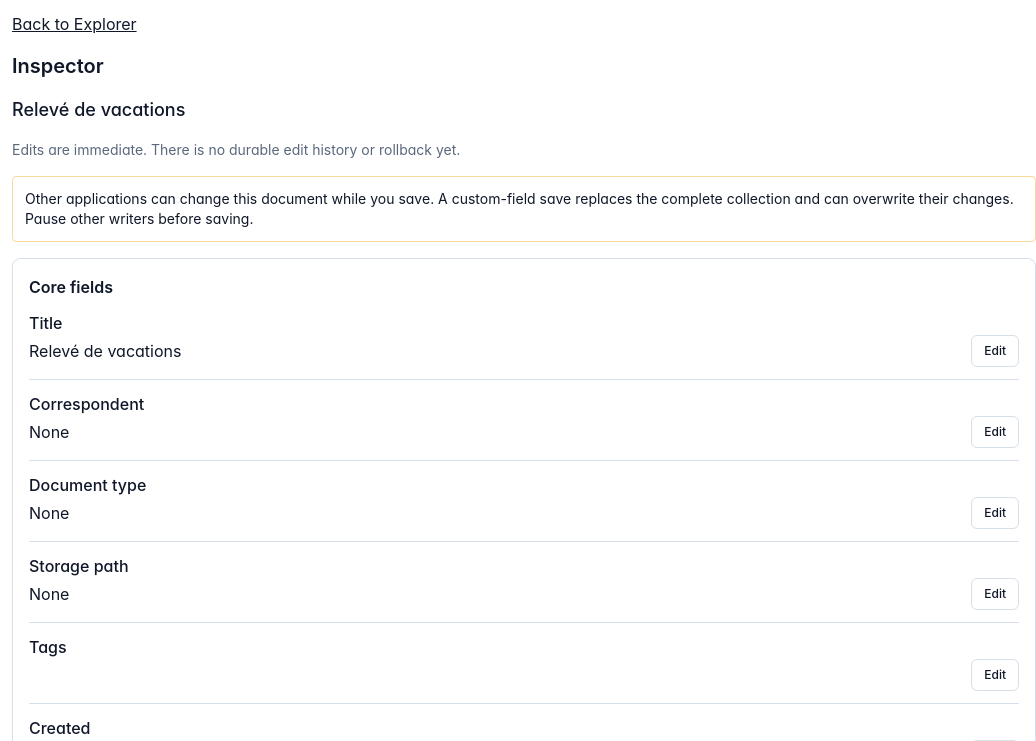
Test: Inspector › keeps an unset core reference null
Click the button with aria-label "Edit Correspondent": {"x": 995, "y": 432} top-left (971, 416), bottom-right (1019, 448)
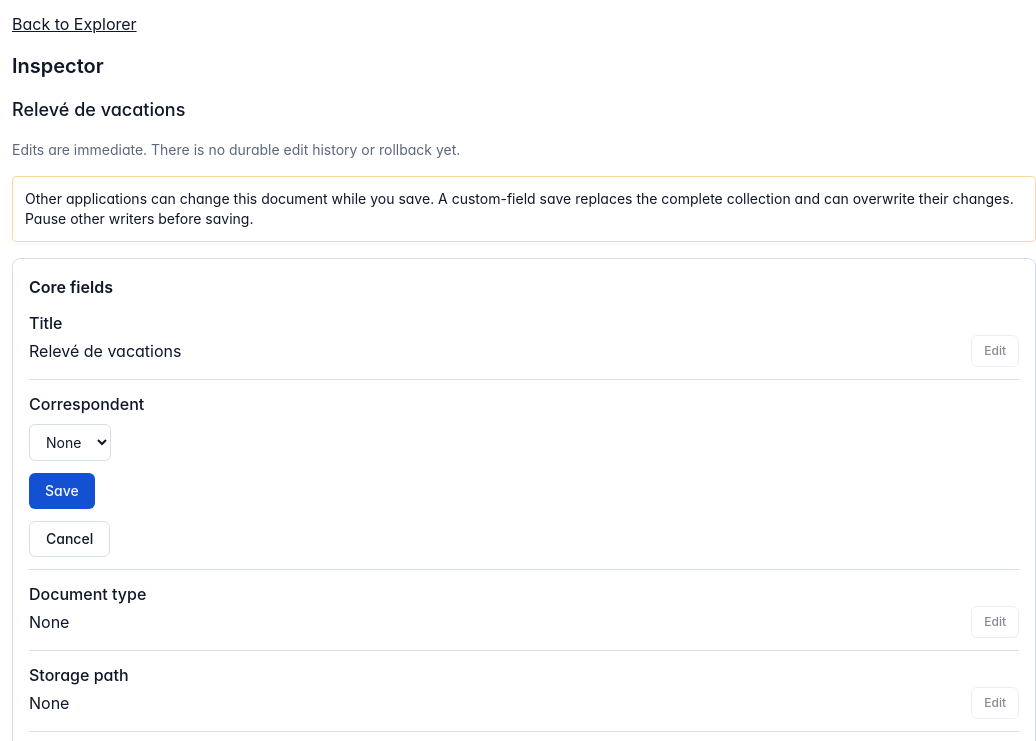
Click the button "Save": {"x": 62, "y": 491} top-left (29, 473), bottom-right (95, 509)
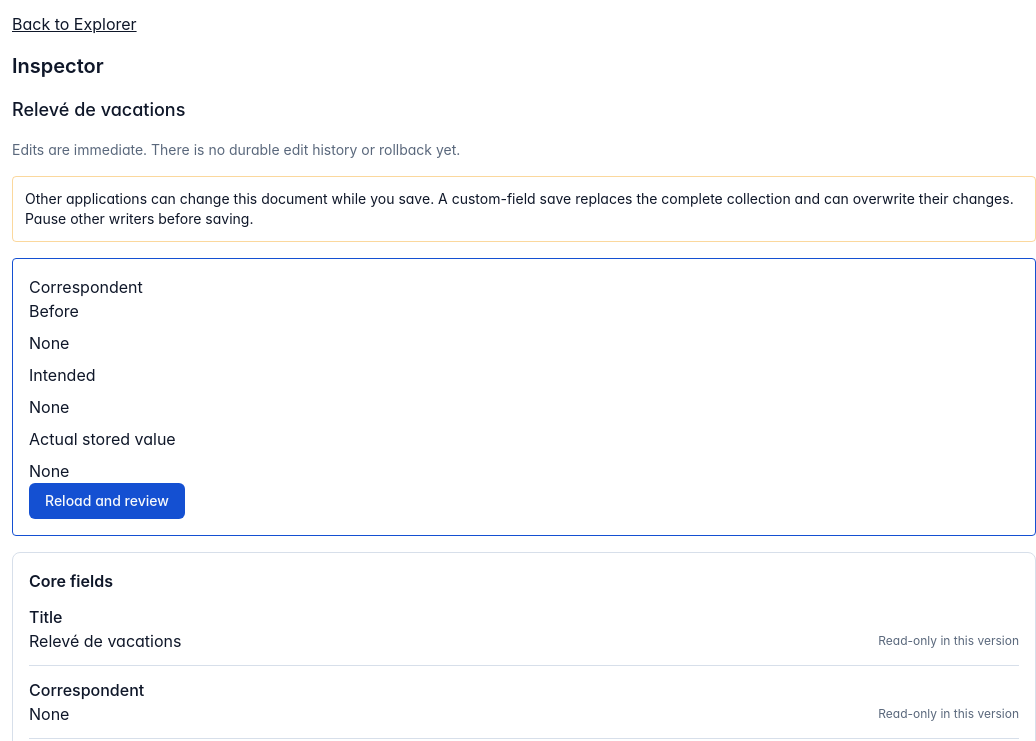
Expected: the message is shown, top-left (12, 258), bottom-right (1035, 536)
